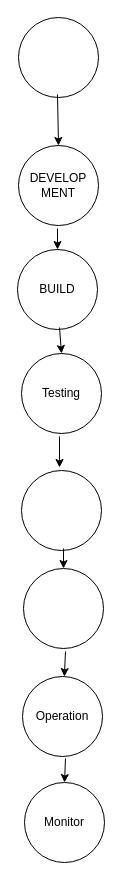
Image size: 122x880. Some labels were removed from this diagram. The box of each missing label's shape, as (x1, y1, x2, y2) in pixels:
Deployment: (22, 568, 104, 648)
PLANNING: (18, 16, 98, 98)
Release: (20, 470, 102, 550)
